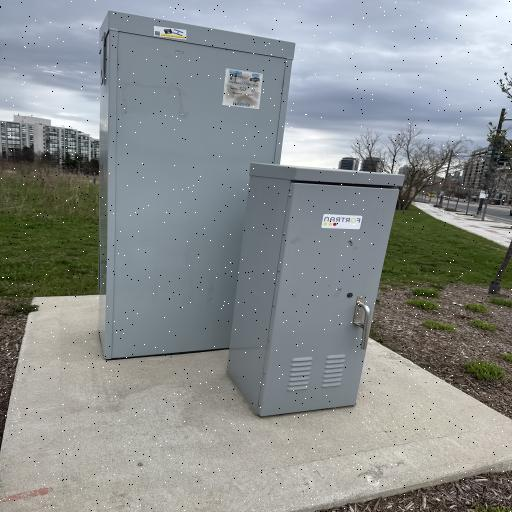Electrical Box: (100, 10, 296, 362), (225, 162, 403, 420)
